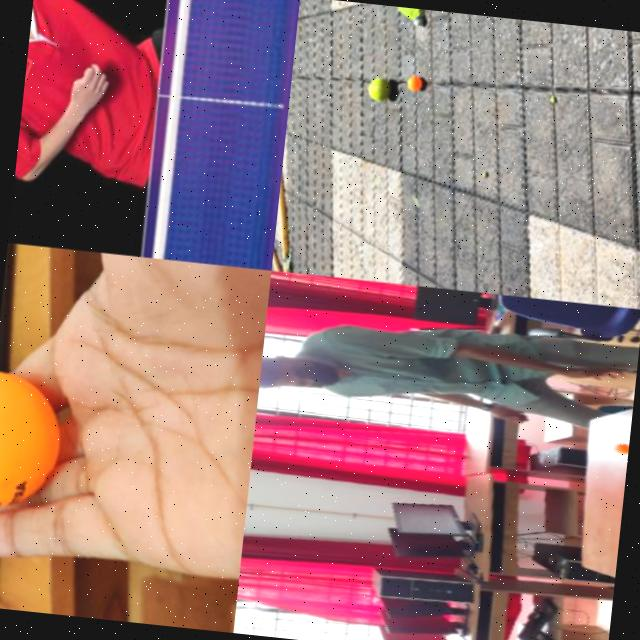ping-pong-ball: (0, 367, 65, 512), (609, 441, 629, 455), (406, 75, 420, 90)
